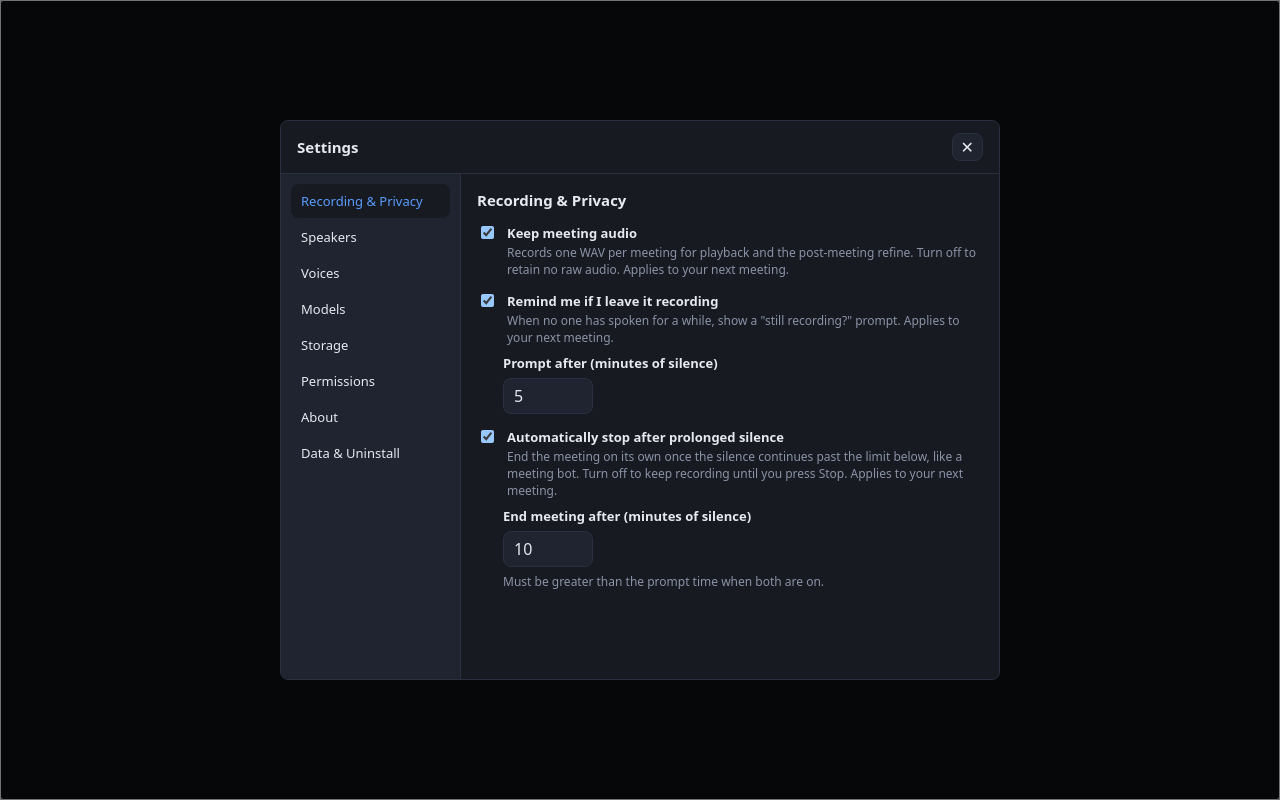
Scenario: SettingsPage storage › renders the archival policy and what it would reclaim
Click the button "Storage" at (370, 345), box x1=291 y1=328 x2=450 y2=362
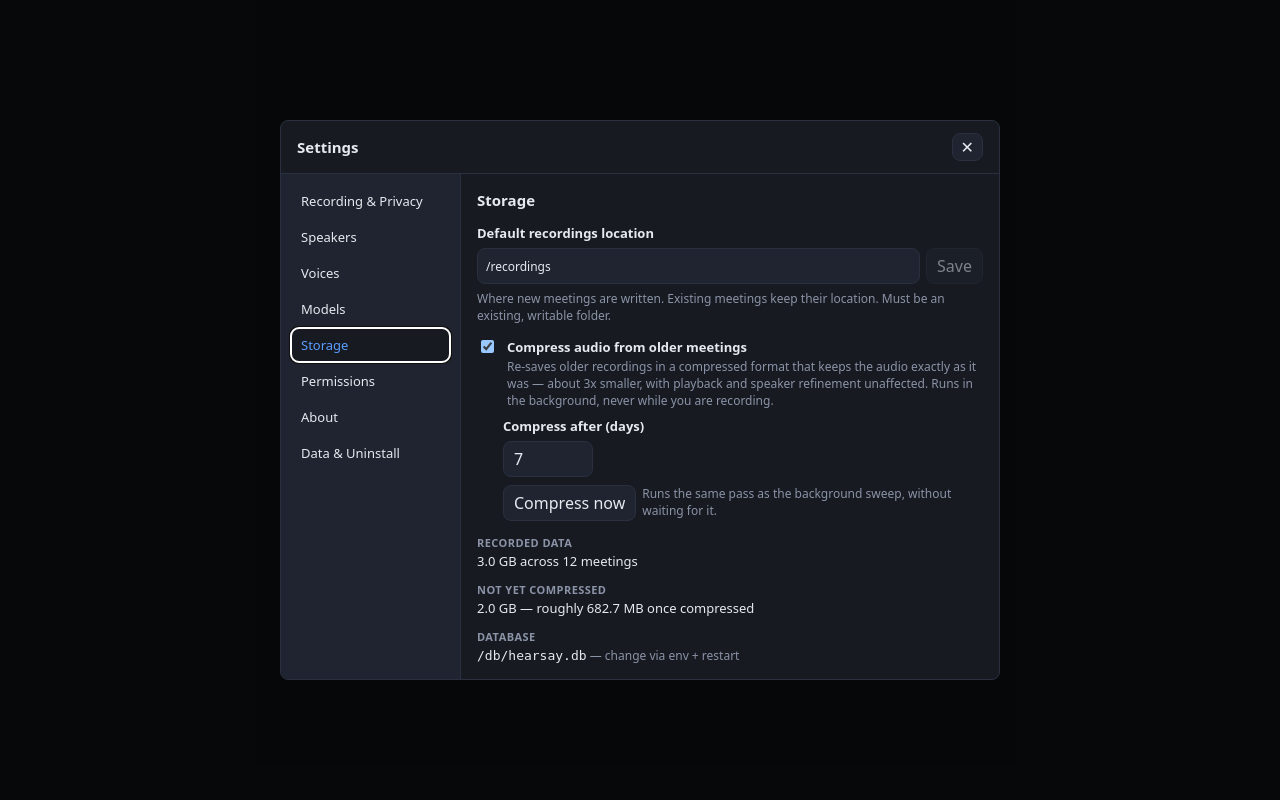
Expected: the checkbox labelled "Compress audio from older meetings" is checked, x1=481 y1=340 x2=494 y2=353
Now the number field named "Compress after days" holds "7", box x1=503 y1=441 x2=593 y2=477
Now the text "2.0 GB — roughly 682.7 MB once compressed" is shown, box x1=477 y1=599 x2=754 y2=617
